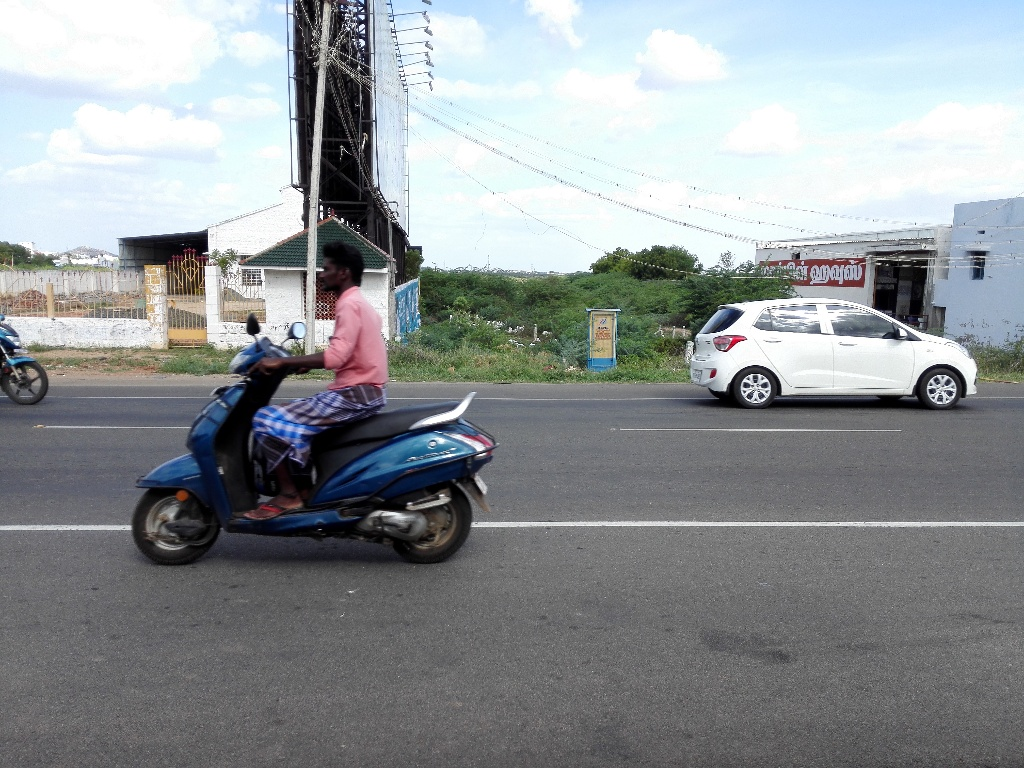biker: (101, 187, 512, 583)
nohelmet: (300, 227, 397, 312)
